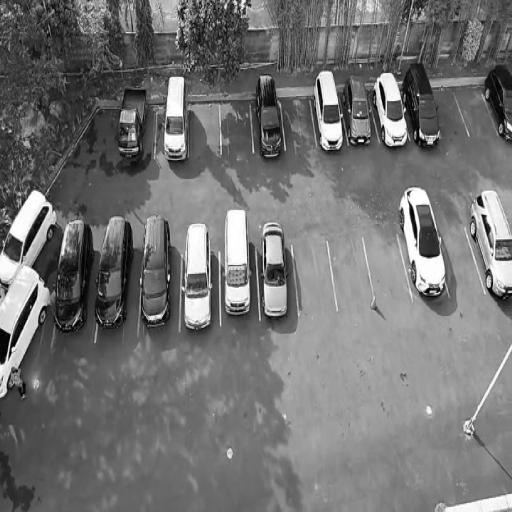Car: (0, 257, 55, 402), (393, 182, 453, 305), (0, 177, 62, 296), (462, 185, 512, 309), (50, 217, 95, 337), (93, 211, 135, 331), (180, 214, 216, 340), (397, 59, 445, 149), (137, 211, 172, 328), (368, 68, 413, 158), (220, 202, 253, 319), (305, 67, 348, 152), (480, 59, 512, 165), (259, 220, 290, 326), (340, 68, 378, 152), (252, 70, 284, 164), (160, 70, 190, 164), (116, 78, 148, 162)
Space Available: (327, 236, 375, 311), (292, 241, 336, 321), (363, 234, 412, 302), (439, 227, 484, 294), (453, 85, 498, 137), (280, 94, 317, 151), (432, 85, 468, 140), (189, 98, 223, 156), (219, 98, 252, 153)
